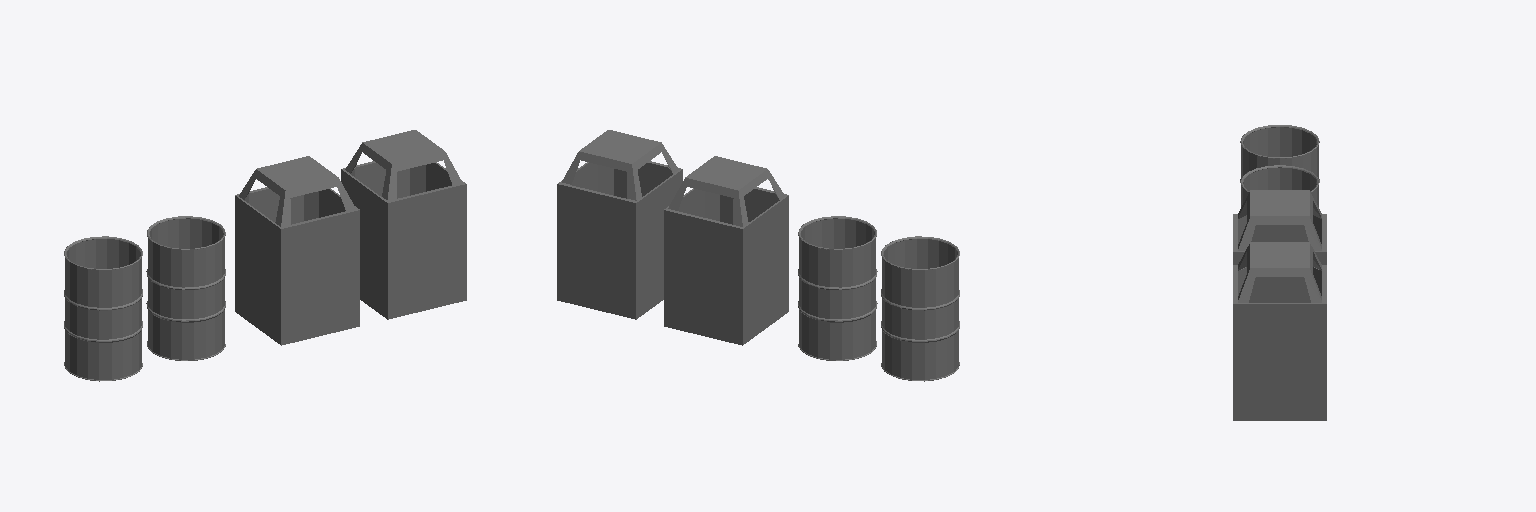
Rendered from Barrels.obj.
The picture shows the model from 3 angles: view 1: azimuth 30°, elevation 25°; view 2: azimuth 150°, elevation 25°; view 3: azimuth 270°, elevation 25°; orthographic projection.
Parts seen in each view (by area): view 1: TrashCan_TrashCan, polySurface1_polySurface1, Burn_Barrel2_Burn_Barrel2, Burn_Barrel1_Burn_Barrel1, polySurface2_polySurface2; view 2: TrashCan_TrashCan, polySurface1_polySurface1, Burn_Barrel2_Burn_Barrel2, Burn_Barrel1_Burn_Barrel1, polySurface2_polySurface2; view 3: polySurface1_polySurface1, TrashCan_TrashCan, Burn_Barrel1_Burn_Barrel1, polySurface2_polySurface2, Burn_Barrel2_Burn_Barrel2.
Part boxes in pixels (x1,y1,x2,y2): TrashCan_TrashCan: (235,156,359,345); polySurface1_polySurface1: (341,161,466,319); Burn_Barrel2_Burn_Barrel2: (146,216,225,360); Burn_Barrel1_Burn_Barrel1: (64,236,142,381); polySurface2_polySurface2: (345,130,461,200); TrashCan_TrashCan: (664,156,788,345); polySurface1_polySurface1: (557,161,682,319); Burn_Barrel2_Burn_Barrel2: (798,216,877,360); Burn_Barrel1_Burn_Barrel1: (881,236,959,381); polySurface2_polySurface2: (562,130,678,200); polySurface1_polySurface1: (1233,265,1326,420); TrashCan_TrashCan: (1233,190,1326,264); Burn_Barrel1_Burn_Barrel1: (1240,125,1319,180); polySurface2_polySurface2: (1238,242,1321,302); Burn_Barrel2_Burn_Barrel2: (1240,165,1319,206).
Size of the model in its own units: 11.12 by 4.15 by 2.4.